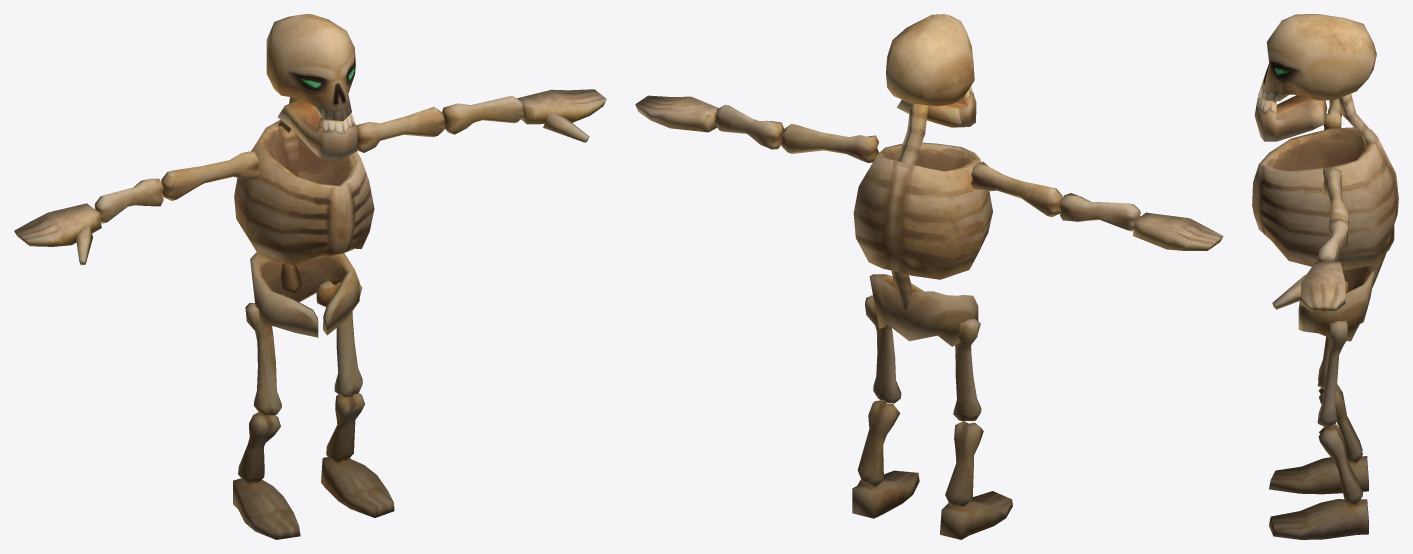
File: skeleton.fbx
3 views of the same model, side by side, from view 1: azimuth 30°, elevation 25°; view 2: azimuth 150°, elevation 25°; view 3: azimuth 270°, elevation 25° (orthographic).
Visible parts, largest first — view 1: skeleton; view 2: skeleton; view 3: skeleton.
Boxes of the visible parts, x1,y1,x2,y2 form: skeleton: [14, 14, 606, 539]; skeleton: [635, 14, 1223, 539]; skeleton: [1252, 14, 1398, 539].
Bounding box in the file's own units: 249 × 201 × 54.39.
